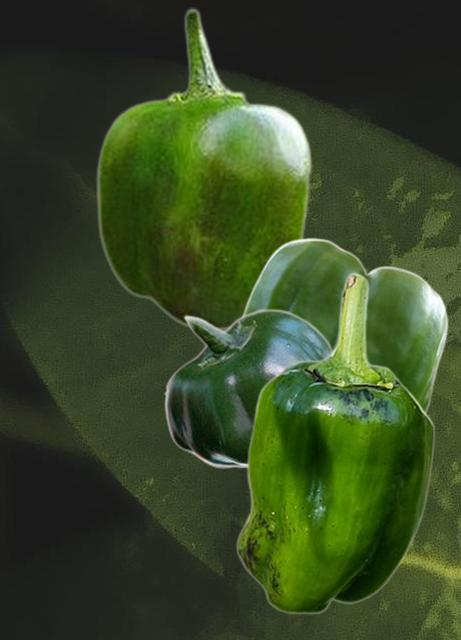bell_pepper: (95, 7, 312, 331), (235, 271, 434, 614), (239, 237, 447, 412), (163, 308, 332, 467)
